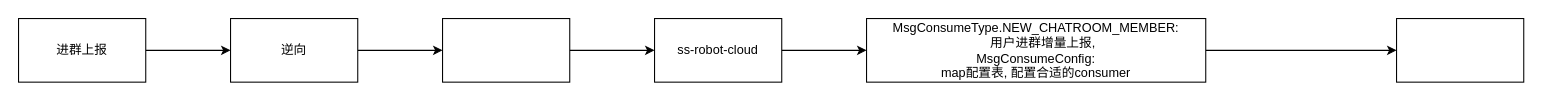
Some shapes in this 1566 by 101 pixel diagram are drawn without their labels. Each missing label, with the centre of its shape:
javaClient: the point at 505,49
RocketMqConsumer.consumer: the point at 1459,49
